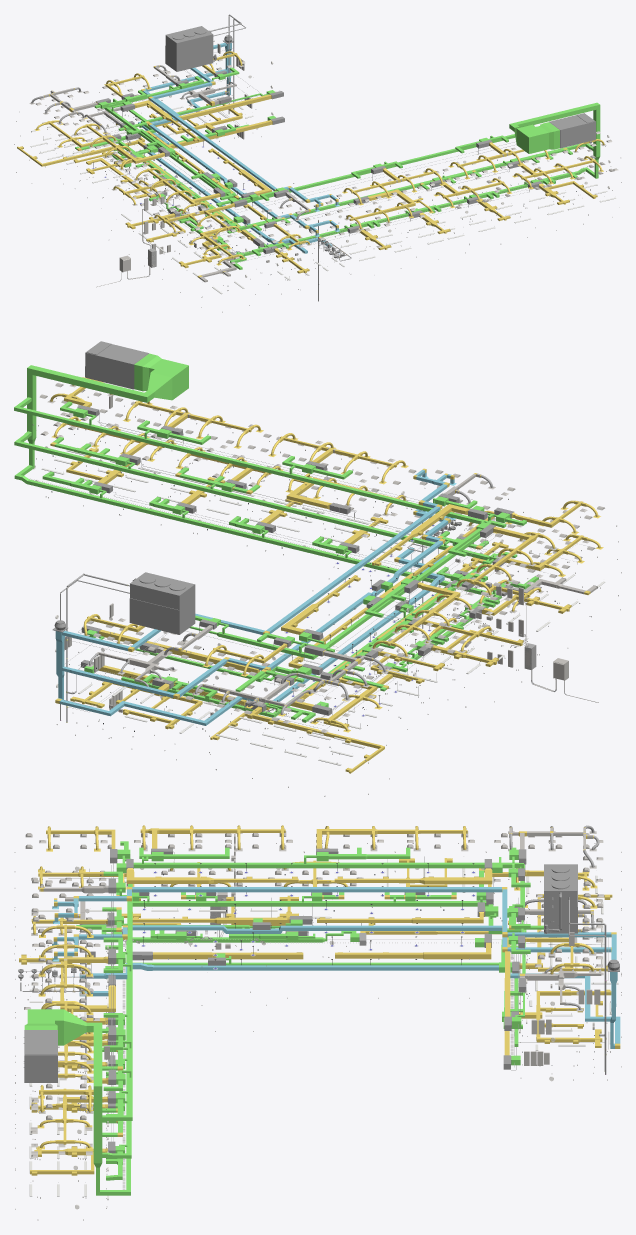
3 views of the same model, one above another, from view 1: azimuth 30°, elevation 25°; view 2: azimuth 150°, elevation 25°; view 3: azimuth 270°, elevation 25° (orthographic). The views are drawn at different scales.
Parts seen in each view (by area): view 1: 1Rg1TxqJb7quiERL5h2kYS, 1Rg1TxqJb7quiERL5h2koj, 1Rg1TxqJb7quiERL5h2ka0, 1Rg1TxqJb7quiERL5h2km7, 1Rg1TxqJb7quiERL5h2koU, 1Rg1TxqJb7quiERL5h2lrF, 1Rg1TxqJb7quiERL5h2kog, 1Rg1TxqJb7quiERL5h2koM, 1Rg1TxqJb7quiERL5h2knV, 1Rg1TxqJb7quiERL5h2kZ$, 1Rg1TxqJb7quiERL5h2lr3; view 2: 1Rg1TxqJb7quiERL5h2kYS, 1Rg1TxqJb7quiERL5h2ka0, 1Rg1TxqJb7quiERL5h2km7, 1Rg1TxqJb7quiERL5h2koU, 1Rg1TxqJb7quiERL5h2koj, 1Rg1TxqJb7quiERL5h2lrF, 1Rg1TxqJb7quiERL5h2koM, 1Rg1TxqJb7quiERL5h2kZ$, 1Rg1TxqJb7quiERL5h2lr3, 1Rg1TxqJb7quiERL5h2knV; view 3: 1Rg1TxqJb7quiERL5h2lr3, 1Rg1TxqJb7quiERL5h2kYS, 1Rg1TxqJb7quiERL5h2lrF, 1Rg1TxqJb7quiERL5h2kZ$, 1Rg1TxqJb7quiERL5h2km0, 1Rg1TxqJb7quiERL5h2koj, 1Rg1TxqJb7quiERL5h2loe, 1Rg1TxqJb7quiERL5h2kZJ, 1Rg1TxqJb7quiERL5h2ka0, 1Rg1TxqJb7quiERL5h2kpt, 1Rg1TxqJb7quiERL5h2kmr, 1Rg1TxqJb7quiERL5h2kmy (+1 smaller).
Boxes of the visible parts, x1,y1,x2,y2 form: 1Rg1TxqJb7quiERL5h2kYS: [165, 26, 216, 71]; 1Rg1TxqJb7quiERL5h2koj: [549, 113, 595, 148]; 1Rg1TxqJb7quiERL5h2ka0: [246, 134, 515, 202]; 1Rg1TxqJb7quiERL5h2km7: [239, 144, 585, 230]; 1Rg1TxqJb7quiERL5h2koU: [243, 171, 579, 255]; 1Rg1TxqJb7quiERL5h2lrF: [151, 99, 274, 189]; 1Rg1TxqJb7quiERL5h2kog: [519, 127, 544, 153]; 1Rg1TxqJb7quiERL5h2koM: [515, 103, 595, 126]; 1Rg1TxqJb7quiERL5h2knV: [155, 94, 271, 126]; 1Rg1TxqJb7quiERL5h2kZ$: [150, 152, 268, 239]; 1Rg1TxqJb7quiERL5h2lr3: [112, 111, 231, 199]; 1Rg1TxqJb7quiERL5h2kYS: [128, 572, 195, 634]; 1Rg1TxqJb7quiERL5h2ka0: [18, 407, 487, 524]; 1Rg1TxqJb7quiERL5h2km7: [18, 441, 489, 560]; 1Rg1TxqJb7quiERL5h2koU: [27, 479, 496, 597]; 1Rg1TxqJb7quiERL5h2koj: [85, 341, 148, 389]; 1Rg1TxqJb7quiERL5h2lrF: [268, 508, 436, 632]; 1Rg1TxqJb7quiERL5h2koM: [32, 366, 143, 400]; 1Rg1TxqJb7quiERL5h2kZ$: [272, 589, 430, 701]; 1Rg1TxqJb7quiERL5h2lr3: [325, 533, 480, 647]; 1Rg1TxqJb7quiERL5h2knV: [99, 629, 258, 673]; 1Rg1TxqJb7quiERL5h2lr3: [139, 862, 497, 868]; 1Rg1TxqJb7quiERL5h2kYS: [544, 864, 577, 933]; 1Rg1TxqJb7quiERL5h2lrF: [139, 887, 497, 892]; 1Rg1TxqJb7quiERL5h2kZ$: [154, 965, 497, 970]; 1Rg1TxqJb7quiERL5h2km0: [139, 901, 488, 906]; 1Rg1TxqJb7quiERL5h2koj: [23, 1030, 57, 1082]; 1Rg1TxqJb7quiERL5h2loe: [140, 962, 497, 965]; 1Rg1TxqJb7quiERL5h2kZJ: [289, 925, 497, 930]; 1Rg1TxqJb7quiERL5h2ka0: [128, 884, 132, 1115]; 1Rg1TxqJb7quiERL5h2kpt: [139, 937, 322, 942]; 1Rg1TxqJb7quiERL5h2kmr: [213, 952, 302, 959]; 1Rg1TxqJb7quiERL5h2kmy: [335, 952, 423, 958].
Size of the model in its own units: 69.92 by 20.6 by 53.48.
